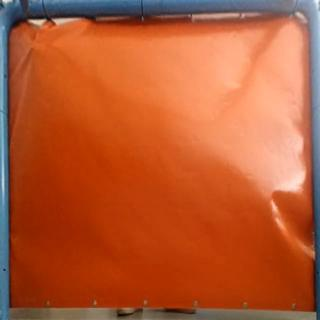Hit-hRxx: (27, 40, 46, 54)
